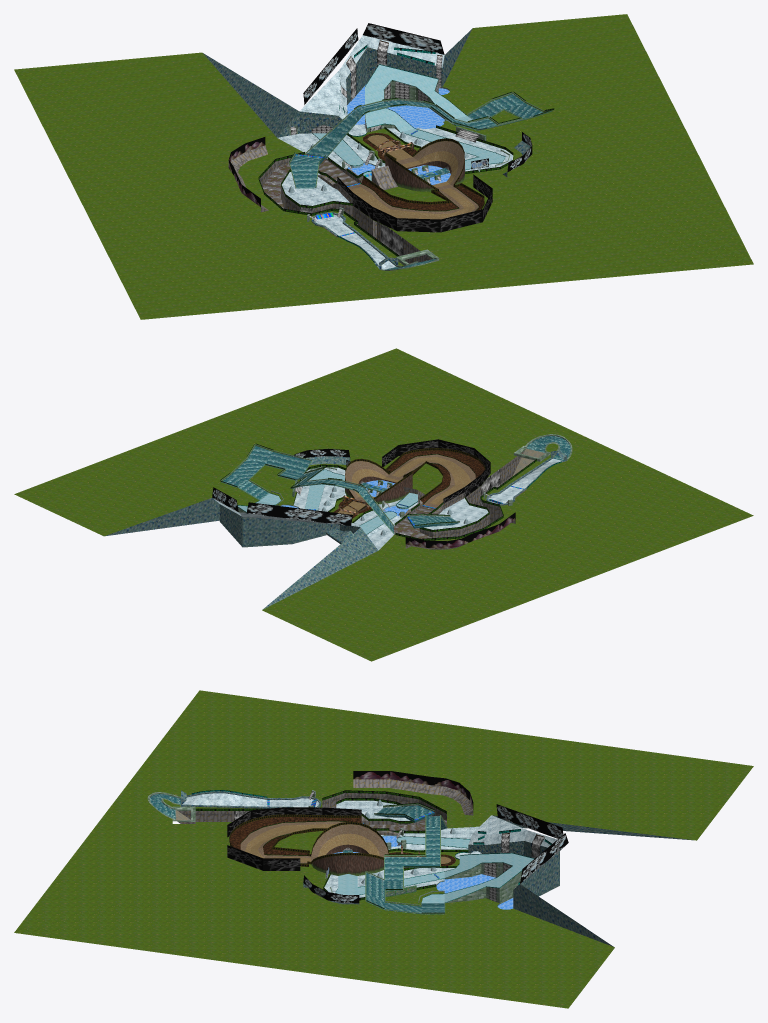
The picture shows the model from 3 angles, top to bottom: view 1: azimuth 30°, elevation 25°; view 2: azimuth 150°, elevation 25°; view 3: azimuth 270°, elevation 25°; orthographic projection. The views are drawn at different scales.
Parts seen in each view (by area): view 1: course-SKP--pasto.001, course-SKP--tznieve, course-SKP--muroazul, course-SKP--Material1.007, course-SKP--tzpisonieve, course-SKP--xsemitransp, course-SKP--Material.014, course-SKP--muroroca, course-SKP--zcascada, course-SKP--tierra, course-SKP--zagua, course-SKP--tierra1 (+6 smaller); view 2: course-SKP--pasto.001, course-SKP--muroazul, course-SKP--Material1.007, course-SKP--xsemitransp, course-SKP--tznieve, course-SKP--Material.014, course-SKP--muroroca, course-SKP--tierra, course-SKP--tzpisonieve, course-SKP--lodo, course-SKP--tierra1, course-SKP--barda2both (+3 smaller); view 3: course-SKP--pasto.001, course-SKP--Material1.007, course-SKP--tznieve, course-SKP--muroazul, course-SKP--xsemitransp, course-SKP--Material.014, course-SKP--tzpisonieve, course-SKP--muroroca, course-SKP--taparedboth, course-SKP--tierra, course-SKP--tierra1, course-SKP--lodo (+5 smaller).
Boxes of the visible parts, <box> form: course-SKP--pasto.001: <box>14,14,753,319</box>; course-SKP--tznieve: <box>277,35,513,269</box>; course-SKP--muroazul: <box>203,28,530,269</box>; course-SKP--Material1.007: <box>228,23,532,232</box>; course-SKP--tzpisonieve: <box>313,65,505,180</box>; course-SKP--xsemitransp: <box>290,94,551,269</box>; course-SKP--Material.014: <box>258,45,554,262</box>; course-SKP--muroroca: <box>230,129,479,263</box>; course-SKP--zcascada: <box>290,41,480,255</box>; course-SKP--tierra: <box>350,135,474,219</box>; course-SKP--zagua: <box>347,84,450,184</box>; course-SKP--tierra1: <box>348,141,478,213</box>; course-SKP--pasto.001: <box>14,348,753,661</box>; course-SKP--muroazul: <box>105,450,566,609</box>; course-SKP--Material1.007: <box>212,439,515,548</box>; course-SKP--xsemitransp: <box>221,436,570,533</box>; course-SKP--tznieve: <box>213,458,562,550</box>; course-SKP--Material.014: <box>220,443,561,540</box>; course-SKP--muroroca: <box>393,451,526,549</box>; course-SKP--tierra: <box>337,457,471,514</box>; course-SKP--tzpisonieve: <box>238,470,417,534</box>; course-SKP--lodo: <box>333,450,484,518</box>; course-SKP--tierra1: <box>345,454,475,507</box>; course-SKP--barda2both: <box>221,444,459,533</box>; course-SKP--pasto.001: <box>14,690,753,1008</box>; course-SKP--Material1.007: <box>227,771,568,903</box>; course-SKP--tznieve: <box>182,793,565,897</box>; course-SKP--muroazul: <box>181,790,693,947</box>; course-SKP--xsemitransp: <box>150,794,446,914</box>; course-SKP--Material.014: <box>191,790,551,913</box>; course-SKP--tzpisonieve: <box>335,835,533,903</box>; course-SKP--muroroca: <box>178,779,473,835</box>; course-SKP--taparedboth: <box>147,790,521,903</box>; course-SKP--tierra: <box>245,824,451,863</box>; course-SKP--tierra1: <box>240,821,389,863</box>; course-SKP--lodo: <box>229,817,544,868</box>.
Size of the model in its own units: 163707 by 21492 by 160831.
24 materials, 23 textured.
